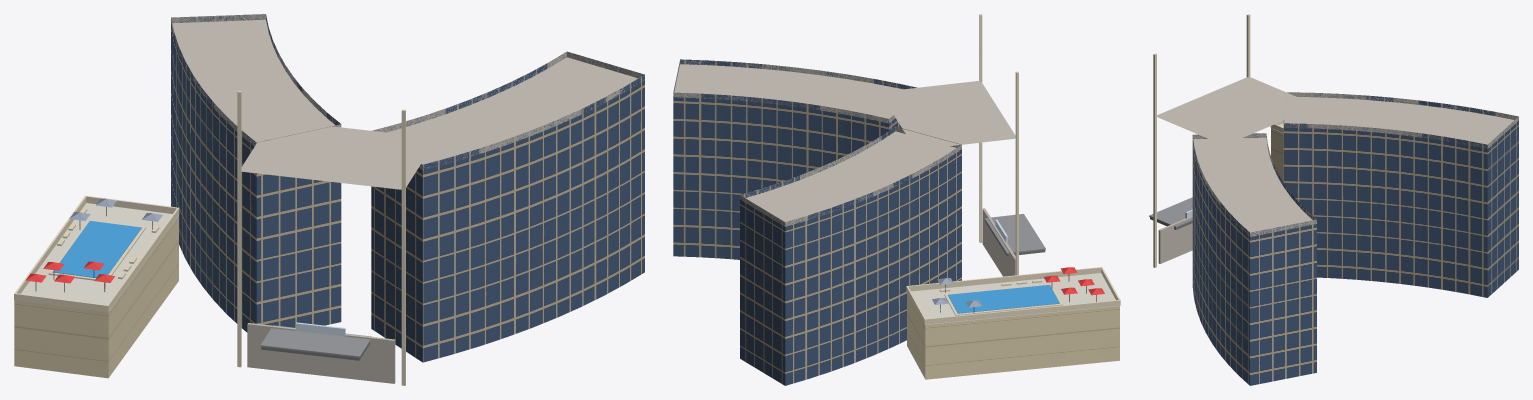
The model's file is radisson_hotel.glb.
The picture shows the model from 3 angles, left to right: view 1: azimuth 30°, elevation 25°; view 2: azimuth 150°, elevation 25°; view 3: azimuth 270°, elevation 25°; orthographic projection. The views are drawn at different scales.
Parts seen in each view (by area): view 1: Radisson_Hotel; view 2: Radisson_Hotel; view 3: Radisson_Hotel.
Boxes of the visible parts, x1,y1,x2,y2 form: Radisson_Hotel: (14, 14, 644, 385); Radisson_Hotel: (673, 14, 1120, 385); Radisson_Hotel: (1149, 14, 1518, 385).
Size of the model in its own units: 0.35 by 0.1615 by 0.2487.
Materials: 1 (1 with a texture image).
